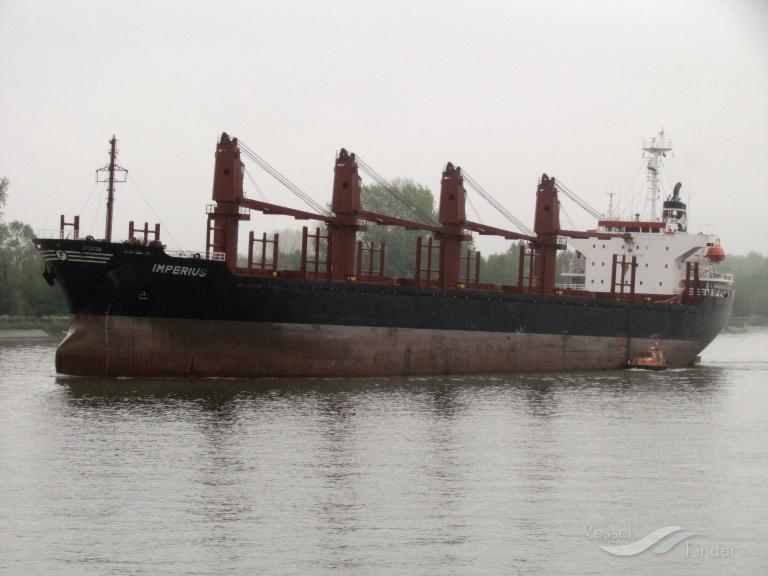OCR: (145, 257, 212, 283)
